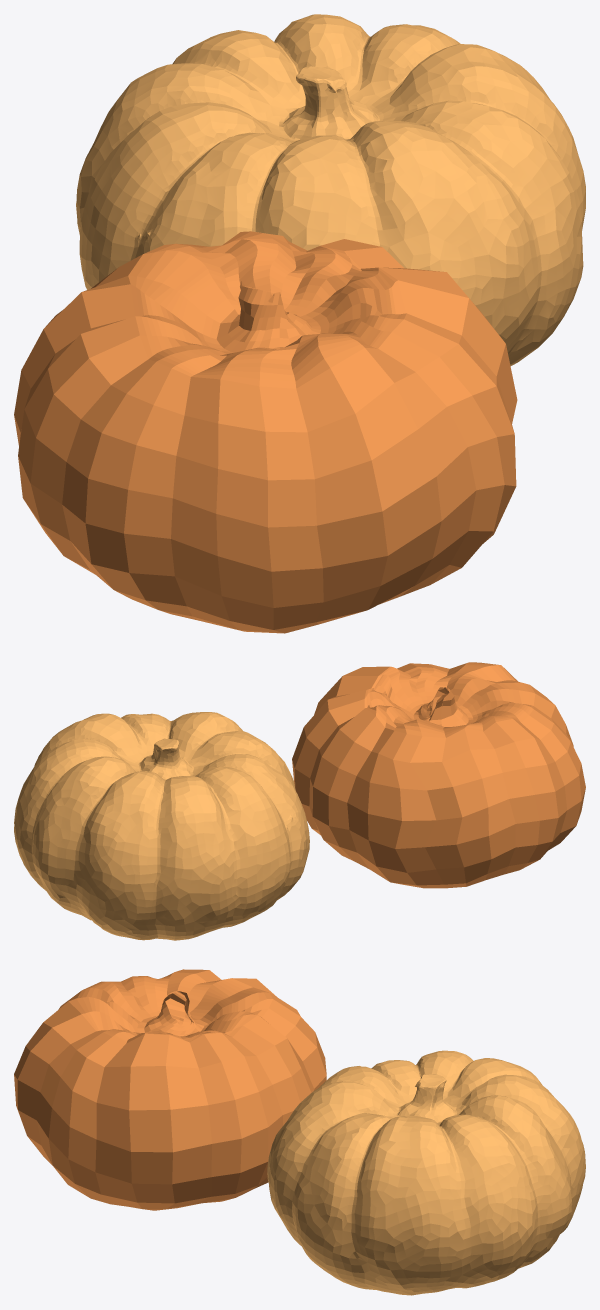
The model's file is KevinPumpkinRetopo 1.fbx.
The picture shows the model from 3 angles, top to bottom: view 1: azimuth 30°, elevation 25°; view 2: azimuth 150°, elevation 25°; view 3: azimuth 270°, elevation 25°; orthographic projection. The views are drawn at different scales.
Visible parts, largest first — view 1: BSurfaceMesh, pumpkin; view 2: pumpkin, BSurfaceMesh; view 3: pumpkin, BSurfaceMesh.
Part boxes in pixels (bbox=[...]): BSurfaceMesh: bbox=[14, 231, 517, 633]; pumpkin: bbox=[76, 14, 585, 365]; pumpkin: bbox=[14, 712, 309, 940]; BSurfaceMesh: bbox=[292, 662, 585, 888]; pumpkin: bbox=[267, 1050, 585, 1295]; BSurfaceMesh: bbox=[14, 969, 326, 1210].
Size of the model in its own units: 58.94 by 23.22 by 65.78.
